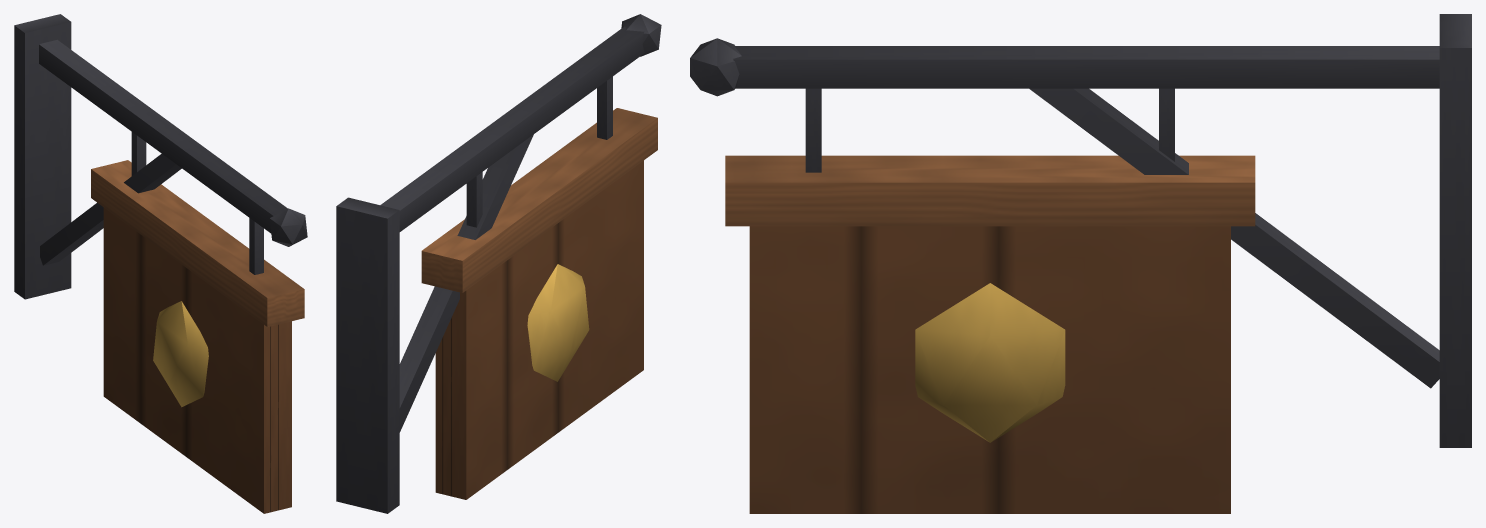
Rendered from prop_sign_hanging_01.glb.
3 renders of one model, left to right at view 1: azimuth 30°, elevation 25°; view 2: azimuth 150°, elevation 25°; view 3: azimuth 270°, elevation 25°, orthographic. The views are drawn at different scales.
Visible parts, largest first — view 1: prop_sign_hanging_01; view 2: prop_sign_hanging_01; view 3: prop_sign_hanging_01.
Part boxes in pixels (box(x1,y1,x2,y2)): prop_sign_hanging_01: box(14, 14, 307, 513); prop_sign_hanging_01: box(336, 14, 661, 513); prop_sign_hanging_01: box(690, 14, 1471, 513).
Bounding box in the file's own units: 0.1192 × 0.65 × 0.974.
Materials: 1 (1 with a texture image).
